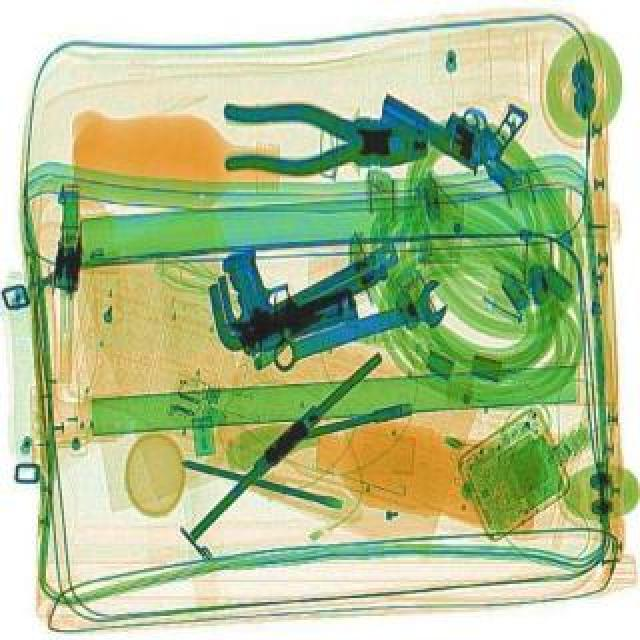gun: (370, 46, 532, 180), (208, 222, 364, 354)
scissors: (262, 274, 458, 378)
wrench: (220, 94, 428, 178)
